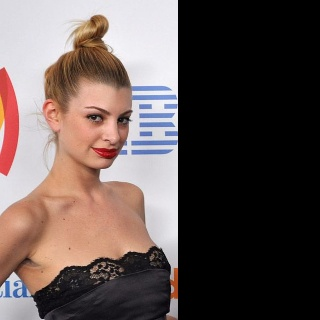without_mask: (57, 77, 133, 168)
